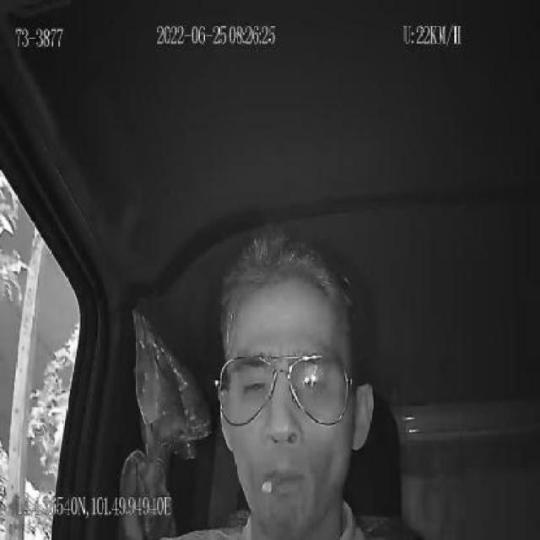smoking: (260, 468, 284, 498)
